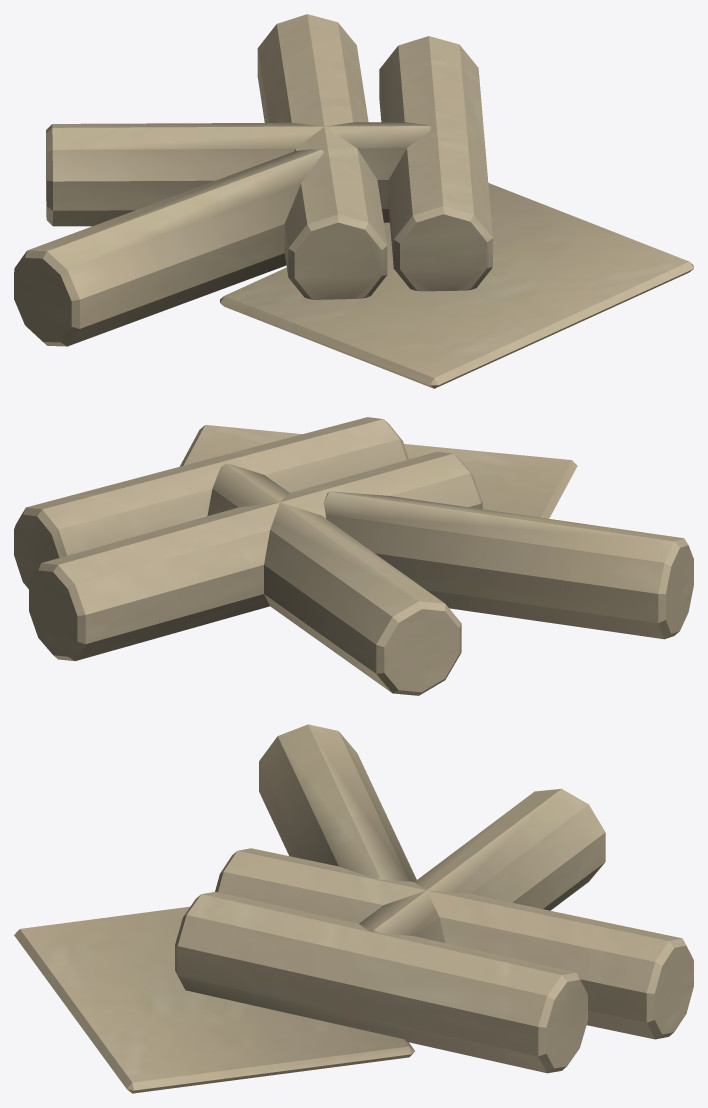
File: p_scrolls.glb
3 renders of one model, top to bottom at view 1: azimuth 30°, elevation 25°; view 2: azimuth 150°, elevation 25°; view 3: azimuth 270°, elevation 25°, orthographic.
Visible parts, largest first — view 1: scrolls; view 2: scrolls; view 3: scrolls.
Part boxes in pixels (x1,y1,x2,y2): scrolls: (14,14,693,388); scrolls: (14,417,693,695); scrolls: (14,724,693,1093).
Bounding box in the file's own units: 0.4437 × 0.07 × 0.45.
1 material, 1 textured.
